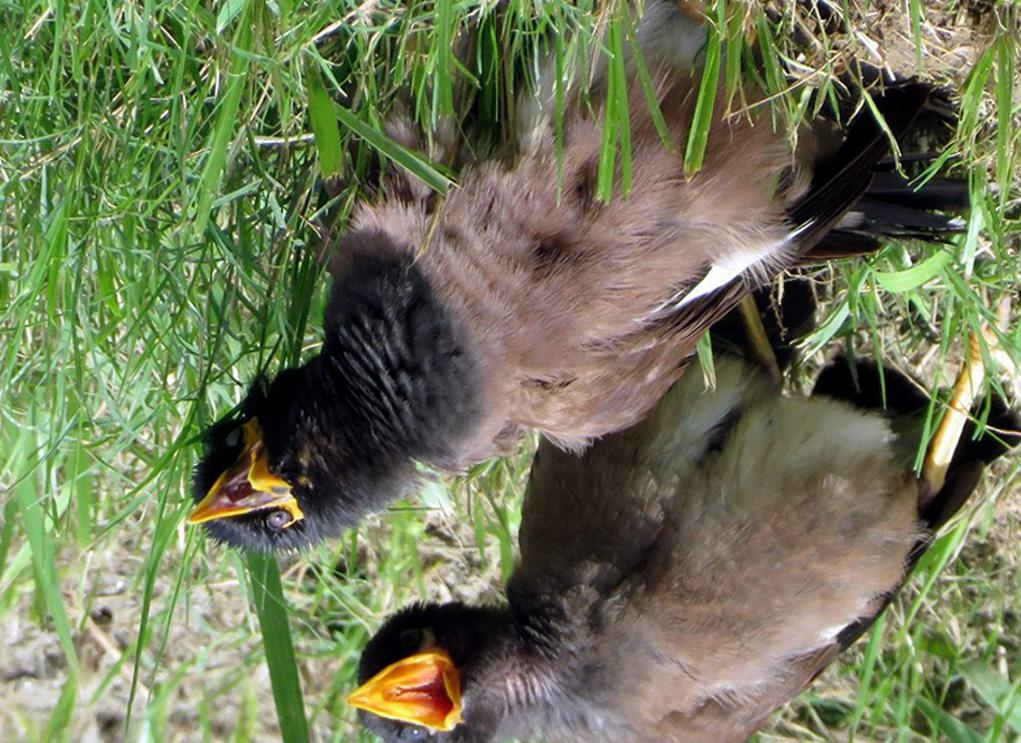myna: (179, 32, 842, 583)
